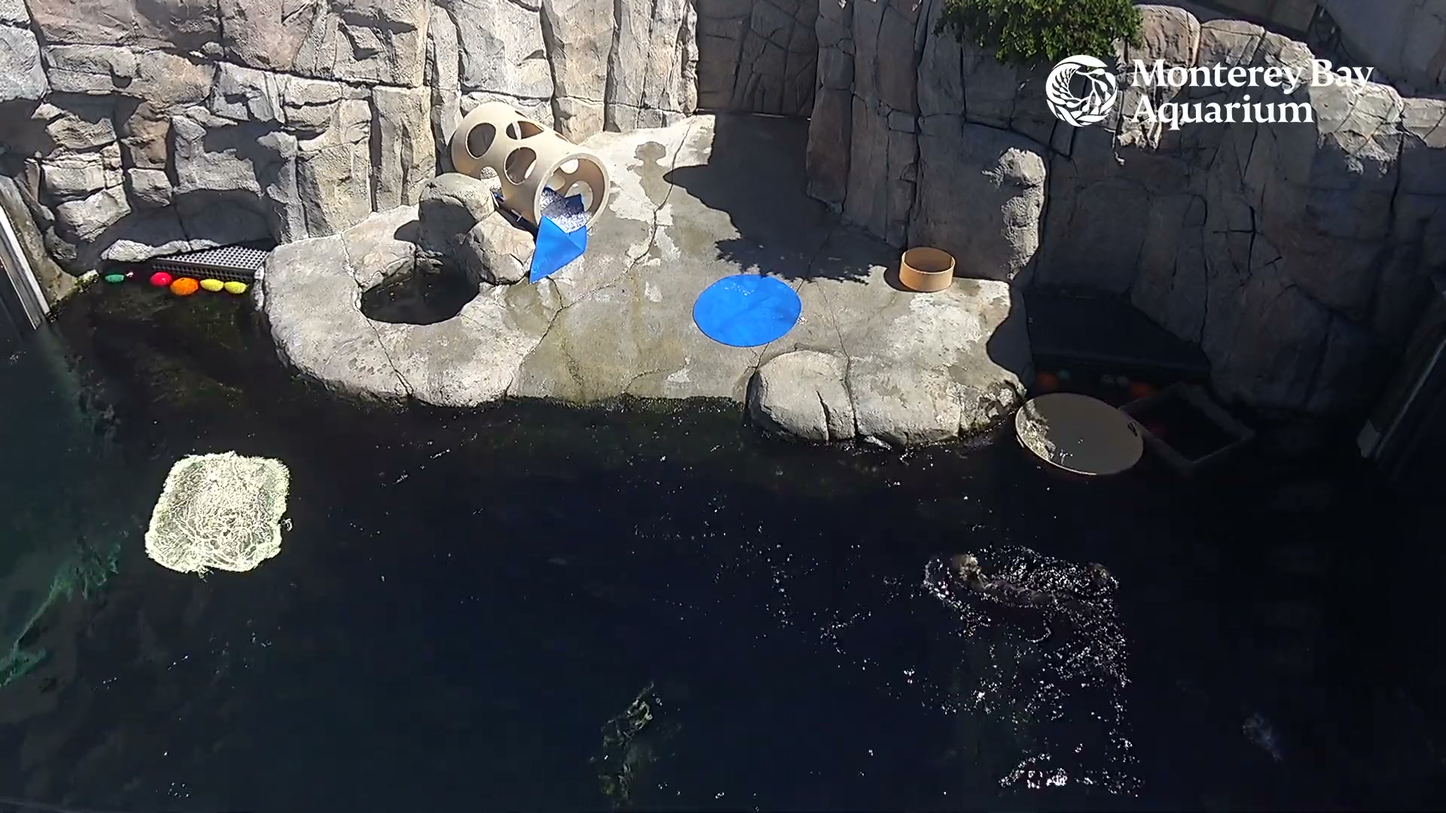Southern Sea Otter: (939, 512, 1127, 626)
